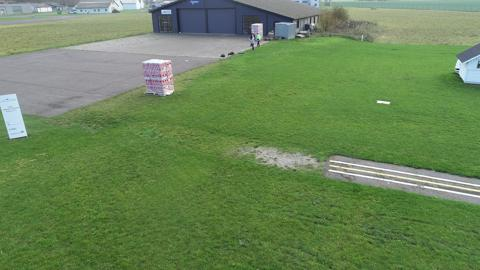RockwoolPallet: (141, 58, 176, 97)
